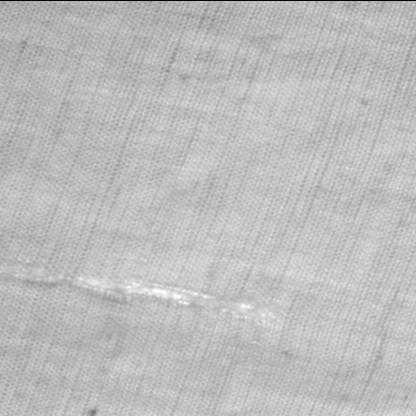thread error: (1, 266, 286, 328)
